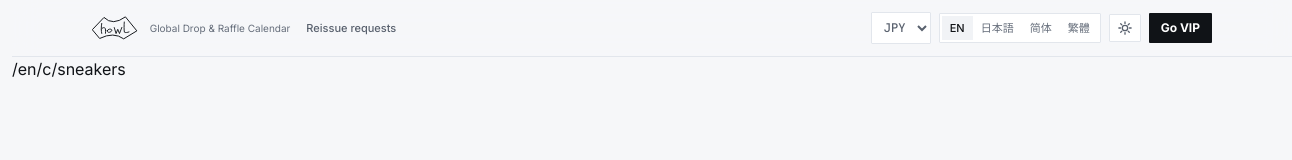
Test: Header › keeps you on the same page when you switch language
Click the button "日本語" at (997, 28), box [973,16,1022,40]
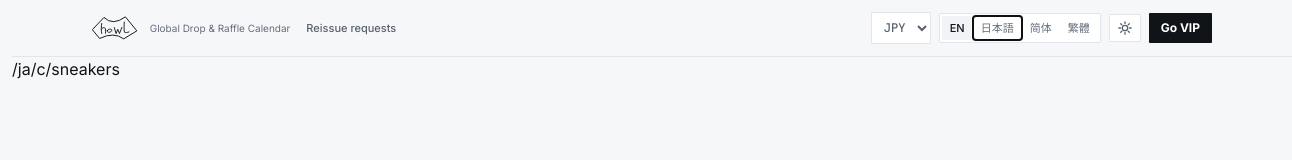
expect the text with test id "path" reads "/ja/c/sneakers": met, box [12,59,120,79]
